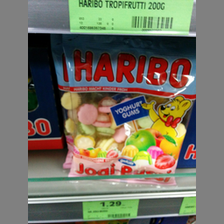candy: (63, 34, 196, 186)
